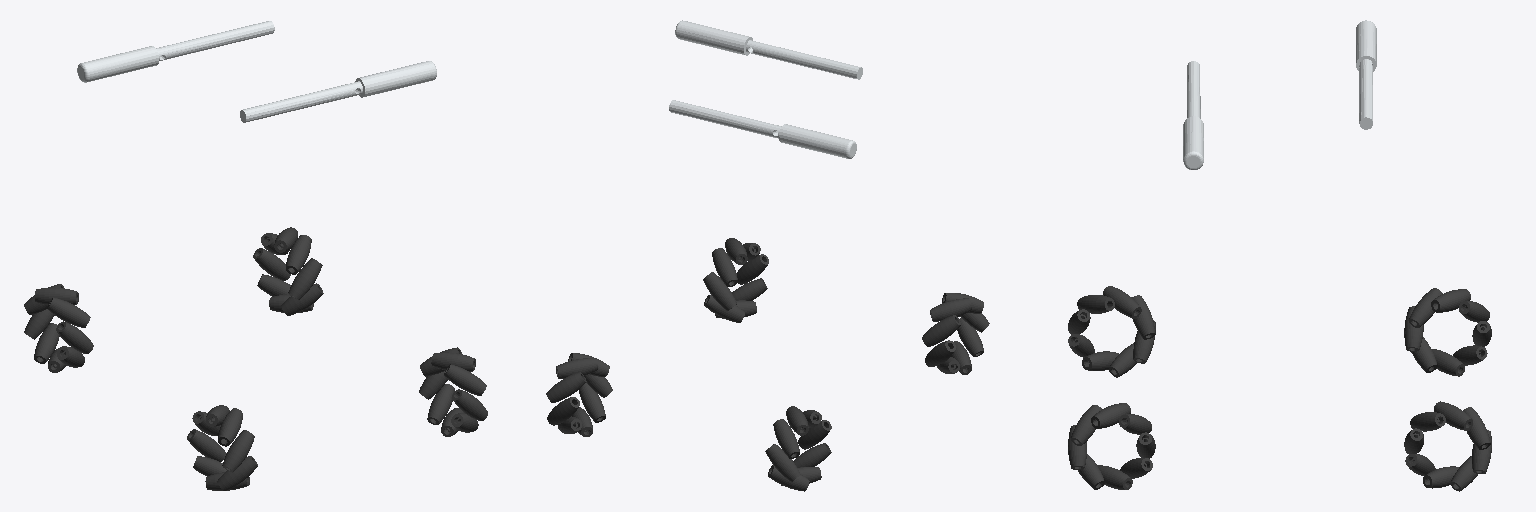
--- Facts derived from the render (not from the file) ---
Views: 3 orthographic renders of the robot side by side, from view 1: azimuth 30°, elevation 25°; view 2: azimuth 150°, elevation 25°; view 3: azimuth 270°, elevation 25°.
Model Mobile_Base_Holder_1 with 39 links and 38 joints (36 continuous, 2 prismatic), rooted at Mobile_Base, posed all joints at 0.
Links seen in each view (by area): view 1: Pin_Head_F, Pin_Head_R, Roller_LR_4, Roller_RF_6, Roller_RR_8, Roller_LF_3, Roller_LR_8, Roller_RR_4, Roller_LF_4, Roller_RF_5, Roller_RF_2, Roller_LR_5 (+6 smaller); view 2: Pin_Head_R, Pin_Head_F, Roller_LR_1, Roller_RF_3, Roller_RR_5, Roller_LF_8, Roller_LF_1, Roller_LR_2, Roller_RR_6, Roller_RF_7, Roller_RF_4, Roller_LR_5 (+3 smaller); view 3: Pin_Head_F, Pin_Head_R, Roller_LR_2, Roller_RF_4, Roller_RR_7, Roller_LF_2, Roller_LF_3, Roller_RR_8, Roller_RF_3, Roller_LR_1, Roller_LR_3, Roller_RR_3 (+4 smaller).
Link boxes in pixels (box(x1,y1,x2,y2)): Pin_Head_F: box(77, 21, 274, 82); Pin_Head_R: box(240, 61, 436, 122); Roller_LR_4: box(222, 430, 254, 472); Roller_RF_6: box(288, 258, 322, 300); Roller_RR_8: box(444, 364, 486, 395); Roller_LF_3: box(47, 297, 90, 327); Roller_LR_8: box(187, 429, 226, 461); Roller_RR_4: box(427, 384, 454, 424); Roller_LF_4: box(56, 321, 93, 353); Roller_RF_5: box(286, 235, 311, 274); Roller_RF_2: box(253, 248, 290, 280); Roller_LR_5: box(217, 456, 257, 490); Pin_Head_R: box(675, 20, 862, 79); Pin_Head_F: box(669, 100, 856, 158); Roller_LR_1: box(922, 315, 960, 346); Roller_RF_3: box(546, 372, 586, 402); Roller_RR_5: box(703, 272, 736, 310); Roller_LF_8: box(765, 444, 800, 481); Roller_LF_1: box(773, 419, 799, 458); Roller_LR_2: box(930, 298, 971, 321); Roller_RR_6: box(712, 248, 737, 286); Roller_RF_7: box(579, 383, 605, 422); Roller_RF_4: box(556, 358, 597, 378); Roller_LR_5: box(957, 318, 983, 356); Pin_Head_F: box(1356, 20, 1376, 129); Pin_Head_R: box(1183, 61, 1203, 169); Roller_LR_2: box(1103, 286, 1141, 318); Roller_RF_4: box(1434, 401, 1472, 430); Roller_RR_7: box(1091, 403, 1130, 428); Roller_LF_2: box(1431, 289, 1470, 312); Roller_LF_3: box(1409, 288, 1442, 327); Roller_RR_8: box(1071, 405, 1101, 445); Roller_RF_3: box(1463, 407, 1490, 449); Roller_LR_1: box(1132, 295, 1155, 339); Roller_LR_3: box(1077, 295, 1114, 313); Roller_RR_3: box(1097, 465, 1132, 489).
Size in the robot's own frame: 0.4573 by 0.6138 by 0.549 metres.
34 mesh visuals loaded from 39 distinct referenced files (34 binary STL); not drawn: 5 (reference not matched to a file when rendering).

robot.urdf — Mobile_Base_Holder_1:
<?xml version="1.0" encoding="utf-8"?>
<!-- This URDF was automatically created by SolidWorks to URDF Exporter! Originally created by Stephen Brawner ([email redacted]) 
     Commit Version: 1.6.0-4-g7f85cfe  Build Version: 1.6.7995.38578
     For more information, please see http://wiki.ros.org/sw_urdf_exporter -->
<robot
  name="Mobile_Base_Holder_1">
  <link
    name="Mobile_Base">
    <inertial>
      <origin
        xyz="-0.000901764538349642 0.00289486712536702 -0.140394651236372"
        rpy="0 0 0" />
      <mass
        value="12.2070426110808" />
      <inertia
        ixx="0.100263210317857"
        ixy="0.000416138117875011"
        ixz="1.90955749720013E-07"
        iyy="0.0777870248737817"
        iyz="-4.99662188803516E-08"
        izz="0.15510236958373" />
    </inertial>
    <visual>
      <origin
        xyz="0 0 0"
        rpy="0 0 0" />
      <geometry>
        <mesh
          filename="package://Mobile_Base_Holder_1/meshes/Mobile_Base.STL" />
      </geometry>
      <material
        name="">
        <color
          rgba="0.792156862745098 0.819607843137255 0.933333333333333 1" />
      </material>
    </visual>
    <collision>
      <origin
        xyz="0 0 0"
        rpy="0 0 0" />
      <geometry>
        <mesh
          filename="package://Mobile_Base_Holder_1/meshes/Mobile_Base.STL" />
      </geometry>
    </collision>
  </link>
  <link
    name="Wheel_LF">
    <inertial>
      <origin
        xyz="-3.68604325448052E-05 8.74696815861276E-06 -0.000155511793327179"
        rpy="0 0 0" />
      <mass
        value="0.774041102749819" />
      <inertia
        ixx="0.000555068815324583"
        ixy="2.15732280355057E-07"
        ixz="-1.85654347062673E-10"
        iyy="0.000555930826369468"
        iyz="2.27283260482476E-10"
        izz="0.000988906210850007" />
    </inertial>
    <visual>
      <origin
        xyz="0 0 0"
        rpy="0 0 0" />
      <geometry>
        <mesh
          filename="package://Mobile_Base_Holder_1/meshes/Wheel_LF.STL" />
      </geometry>
      <material
        name="">
        <color
          rgba="0.898039215686275 0.917647058823529 0.929411764705882 1" />
      </material>
    </visual>
    <collision>
      <origin
        xyz="0 0 0"
        rpy="0 0 0" />
      <geometry>
        <mesh
          filename="package://Mobile_Base_Holder_1/meshes/Wheel_LF.STL" />
      </geometry>
    </collision>
  </link>
  <joint
    name="J_Wheel_LF"
    type="continuous">
    <origin
      xyz="-0.196999999999994 0.243373703143014 -0.410500520826094"
      rpy="1.5707963267949 -0.698892577239709 1.57079632679526" />
    <parent
      link="Mobile_Base" />
    <child
      link="Wheel_LF" />
    <axis
      xyz="0 0 1" />
  </joint>
  <link
    name="Roller_LF_1">
    <inertial>
      <origin
        xyz="-3.83185982943957E-10 -5.66471758389753E-10 -6.83960459935129E-08"
        rpy="0 0 0" />
      <mass
        value="0.0352584429300109" />
      <inertia
        ixx="1.04260747160857E-05"
        ixy="-3.74985932672452E-16"
        ixz="3.16159847322509E-11"
        iyy="1.04260747162552E-05"
        iyz="-7.59166287983956E-12"
        izz="3.24617145964053E-06" />
    </inertial>
    <visual>
      <origin
        xyz="0 0 0"
        rpy="0 0 0" />
      <geometry>
        <mesh
          filename="package://Mobile_Base_Holder_1/meshes/Roller_LF_1.STL" />
      </geometry>
      <material
        name="">
        <color
          rgba="0.298039215686275 0.298039215686275 0.298039215686275 1" />
      </material>
    </visual>
    <collision>
      <origin
        xyz="0 0 0"
        rpy="0 0 0" />
      <geometry>
        <mesh
          filename="package://Mobile_Base_Holder_1/meshes/Roller_LF_1.STL" />
      </geometry>
    </collision>
  </link>
  <joint
    name="J_Roller_LF_1"
    type="continuous">
    <origin
      xyz="0.0495000000000021 0 0"
      rpy="0 0.785398163397682 1.57079632679483" />
    <parent
      link="Wheel_LF" />
    <child
      link="Roller_LF_1" />
    <axis
      xyz="0 0 -1" />
  </joint>
  <link
    name="Roller_LF_2">
    <inertial>
      <origin
        xyz="-3.09857084435095E-10 1.10555134491541E-09 -4.17113807937852E-08"
        rpy="0 0 0" />
      <mass
        value="0.0352584429300112" />
      <inertia
        ixx="1.04260761905347E-05"
        ixy="2.10247077096114E-16"
        ixz="-2.4788845562525E-11"
        iyy="1.04260761890094E-05"
        iyz="-2.10620761179513E-11"
        izz="3.24617146052916E-06" />
    </inertial>
    <visual>
      <origin
        xyz="0 0 0"
        rpy="0 0 0" />
      <geometry>
        <mesh
          filename="package://Mobile_Base_Holder_1/meshes/Roller_LF_2.STL" />
      </geometry>
      <material
        name="">
        <color
          rgba="0.298039215686275 0.298039215686275 0.298039215686275 1" />
      </material>
    </visual>
    <collision>
      <origin
        xyz="0 0 0"
        rpy="0 0 0" />
      <geometry>
        <mesh
          filename="package://Mobile_Base_Holder_1/meshes/Roller_LF_2.STL" />
      </geometry>
    </collision>
  </link>
  <joint
    name="J_Roller_LF_2"
    type="continuous">
    <origin
      xyz="0.0350017856687387 0.0350017856687551 0"
      rpy="0 0.785398163397817 2.35619449019253" />
    <parent
      link="Wheel_LF" />
    <child
      link="Roller_LF_2" />
    <axis
      xyz="0 0 -1" />
  </joint>
  <link
    name="Roller_LF_3">
    <inertial>
      <origin
        xyz="7.28457724696874E-09 2.76751455086099E-09 2.27604661784397E-08"
        rpy="0 0 0" />
      <mass
        value="0.0352584429300111" />
      <inertia
        ixx="1.04260768064924E-05"
        ixy="-1.98661171978739E-14"
        ixz="-3.25498755598683E-11"
        iyy="1.04260768503918E-05"
        iyz="-1.43134028288981E-12"
        izz="3.2461715182147E-06" />
    </inertial>
    <visual>
      <origin
        xyz="0 0 0"
        rpy="0 0 0" />
      <geometry>
        <mesh
          filename="package://Mobile_Base_Holder_1/meshes/Roller_LF_3.STL" />
      </geometry>
      <material
        name="">
        <color
          rgba="0.298039215686275 0.298039215686275 0.298039215686275 1" />
      </material>
    </visual>
    <collision>
      <origin
        xyz="0 0 0"
        rpy="0 0 0" />
      <geometry>
        <mesh
          filename="package://Mobile_Base_Holder_1/meshes/Roller_LF_3.STL" />
      </geometry>
    </collision>
  </link>
  <joint
    name="J_Roller_LF_3"
    type="continuous">
    <origin
      xyz="0 0.0494999999999665 0"
      rpy="0 0.785398163397733 -3.14159265358936" />
    <parent
      link="Wheel_LF" />
    <child
      link="Roller_LF_3" />
    <axis
      xyz="0 0 -1" />
  </joint>
  <link
    name="Roller_LF_4">
    <inertial>
      <origin
        xyz="-8.85009204809606E-10 8.87345419364749E-10 -1.82681258453776E-08"
        rpy="0 0 0" />
      <mass
        value="0.035258442930011" />
      <inertia
        ixx="1.04260768940346E-05"
        ixy="6.843225238284E-16"
        ixz="-1.09712169237017E-11"
        iyy="1.04260768941284E-05"
        iyz="3.06406603017413E-11"
        izz="3.24617146037589E-06" />
    </inertial>
    <visual>
      <origin
        xyz="0 0 0"
        rpy="0 0 0" />
      <geometry>
        <mesh
          filename="package://Mobile_Base_Holder_1/meshes/Roller_LF_4.STL" />
      </geometry>
      <material
        name="">
        <color
          rgba="0.298039215686275 0.298039215686275 0.298039215686275 1" />
      </material>
    </visual>
    <collision>
      <origin
        xyz="0 0 0"
        rpy="0 0 0" />
      <geometry>
        <mesh
          filename="package://Mobile_Base_Holder_1/meshes/Roller_LF_4.STL" />
      </geometry>
    </collision>
  </link>
  <joint
    name="J_Roller_LF_4"
    type="continuous">
    <origin
      xyz="-0.0350017856687272 0.0350017856687195 0"
      rpy="0 0.785398163397478 -2.35619449019179" />
    <parent
      link="Wheel_LF" />
    <child
      link="Roller_LF_4" />
    <axis
      xyz="0 0 -1" />
  </joint>
  <link
    name="Roller_LF_5">
    <inertial>
      <origin
        xyz="1.60439110885591E-08 5.69080083057116E-09 1.2380305391968E-07"
        rpy="0 0 0" />
      <mass
        value="0.035258442930011" />
      <inertia
        ixx="1.04260694141622E-05"
        ixy="-9.94372503073185E-14"
        ixz="-1.26413841544385E-11"
        iyy="1.04260696259208E-05"
        iyz="2.99325036340899E-11"
        izz="3.24617174875245E-06" />
    </inertial>
    <visual>
      <origin
        xyz="0 0 0"
        rpy="0 0 0" />
      <geometry>
        <mesh
          filename="package://Mobile_Base_Holder_1/meshes/Roller_LF_5.STL" />
      </geometry>
      <material
        name="">
        <color
          rgba="0.298039215686275 0.298039215686275 0.298039215686275 1" />
      </material>
    </visual>
    <collision>
      <origin
        xyz="0 0 0"
        rpy="0 0 0" />
      <geometry>
        <mesh
          filename="package://Mobile_Base_Holder_1/meshes/Roller_LF_5.STL" />
      </geometry>
    </collision>
  </link>
  <joint
    name="J_Roller_LF_5"
    type="continuous">
    <origin
      xyz="-0.0495000000000251 0 0"
      rpy="0 0.785398163397209 -1.57079632679442" />
    <parent
      link="Wheel_LF" />
    <child
      link="Roller_LF_5" />
    <axis
      xyz="0 0 -1" />
  </joint>
  <link
    name="Roller_LF_6">
    <inertial>
      <origin
        xyz="-3.825635364052E-10 -1.68518193843781E-09 4.39527294560094E-08"
        rpy="0 0 0" />
      <mass
        value="0.0352584429300111" />
      <inertia
        ixx="1.04260760941714E-05"
        ixy="-2.85658102752809E-16"
        ixz="2.80429237954922E-11"
        iyy="1.04260760917002E-05"
        iyz="1.65168143921329E-11"
        izz="3.24617146148317E-06" />
    </inertial>
    <visual>
      <origin
        xyz="0 0 0"
        rpy="0 0 0" />
      <geometry>
        <mesh
          filename="package://Mobile_Base_Holder_1/meshes/Roller_LF_6.STL" />
      </geometry>
      <material
        name="">
        <color
          rgba="0.298039215686275 0.298039215686275 0.298039215686275 1" />
      </material>
    </visual>
    <collision>
      <origin
        xyz="0 0 0"
        rpy="0 0 0" />
      <geometry>
        <mesh
          filename="package://Mobile_Base_Holder_1/meshes/Roller_LF_6.STL" />
      </geometry>
    </collision>
  </link>
  <joint
    name="J_Roller_LF_6"
    type="continuous">
    <origin
      xyz="-0.0350017856687449 -0.0350017856687672 0"
      rpy="0 0.785398163397077 -0.785398163397211" />
    <parent
      link="Wheel_LF" />
    <child
      link="Roller_LF_6" />
    <axis
      xyz="0 0 -1" />
  </joint>
  <link
    name="Roller_LF_7">
    <inertial>
      <origin
        xyz="4.28941293595386E-09 8.82995787598873E-10 -1.01682179981522E-07"
        rpy="0 0 0" />
      <mass
        value="0.0352584429300109" />
      <inertia
        ixx="1.04260718732603E-05"
        ixy="-4.33398087044761E-15"
        ixz="2.94154428727412E-11"
        iyy="1.04260718866193E-05"
        iyz="-1.4005428896808E-11"
        izz="3.2461714747039E-06" />
    </inertial>
    <visual>
      <origin
        xyz="0 0 0"
        rpy="0 0 0" />
      <geometry>
        <mesh
          filename="package://Mobile_Base_Holder_1/meshes/Roller_LF_7.STL" />
      </geometry>
      <material
        name="">
        <color
          rgba="0.298039215686275 0.298039215686275 0.298039215686275 1" />
      </material>
    </visual>
    <collision>
      <origin
        xyz="0 0 0"
        rpy="0 0 0" />
      <geometry>
        <mesh
          filename="package://Mobile_Base_Holder_1/meshes/Roller_LF_7.STL" />
      </geometry>
    </collision>
  </link>
  <joint
    name="J_Roller_LF_7"
    type="continuous">
    <origin
      xyz="0 -0.0494999999999995 0"
      rpy="0 0.785398163397161 0" />
    <parent
      link="Wheel_LF" />
    <child
      link="Roller_LF_7" />
    <axis
      xyz="0 0 -1" />
  </joint>
  <link
    name="Roller_LF_8">
    <inertial>
      <origin
        xyz="-4.45606107568608E-10 -1.68479385997955E-09 4.58650017132189E-08"
        rpy="0 0 0" />
      <mass
        value="0.0352584429300115" />
      <inertia
        ixx="1.04260760091362E-05"
        ixy="-3.83896454579771E-16"
        ixz="3.22721314246384E-11"
        iyy="1.04260760061884E-05"
        iyz="-4.12147536543168E-12"
        izz="3.24617146194952E-06" />
    </inertial>
    <visual>
      <origin
        xyz="0 0 0"
        rpy="0 0 0" />
      <geometry>
        <mesh
          filename="package://Mobile_Base_Holder_1/meshes/Roller_LF_8.STL" />
      </geometry>
      <material
        name="">
        <color
          rgba="0.298039215686275 0.298039215686275 0.298039215686275 1" />
      </material>
    </visual>
    <collision>
      <origin
        xyz="0 0 0"
        rpy="0 0 0" />
      <geometry>
        <mesh
          filename="package://Mobile_Base_Holder_1/meshes/Roller_LF_8.STL" />
      </geometry>
    </collision>
  </link>
  <joint
    name="J_Roller_LF_8"
    type="continuous">
    <origin
      xyz="0.0350017856687419 -0.0350017856687232 0"
      rpy="0 0.785398163397412 0.785398163397306" />
    <parent
      link="Wheel_LF" />
    <child
      link="Roller_LF_8" />
    <axis
      xyz="0 0 -1" />
  </joint>
  <link
    name="Wheel_LR">
    <inertial>
      <origin
        xyz="2.28750886412388E-05 4.38499760812283E-05 -0.000160556590807603"
        rpy="0 0 0" />
      <mass
        value="0.286935584537691" />
      <inertia
        ixx="0.000205567523367468"
        ixy="4.86825936022437E-10"
        ixz="5.22777710432475E-10"
        iyy="0.000205922237695722"
        iyz="8.40224944645304E-11"
        izz="0.000366267561115225" />
    </inertial>
    <visual>
      <origin
        xyz="0 0 0"
        rpy="0 0 0" />
      <geometry>
        <mesh
          filename="package://Mobile_Base_Holder_1/meshes/Wheel_LR.STL" />
      </geometry>
      <material
        name="">
        <color
          rgba="0.792156862745098 0.819607843137255 0.933333333333333 1" />
      </material>
    </visual>
    <collision>
      <origin
        xyz="0 0 0"
        rpy="0 0 0" />
      <geometry>
        <mesh
          filename="package://Mobile_Base_Holder_1/meshes/Wheel_LR.STL" />
      </geometry>
    </collision>
  </link>
  <joint
    name="J_Wheel_LR"
    type="continuous">
    <origin
      xyz="-0.197 -0.243373703143012 -0.410500520826101"
      rpy="1.5707963267949 -0.479686767241463 1.57079632679489" />
    <parent
      link="Mobile_Base" />
    <child
      link="Wheel_LR" />
    <axis
      xyz="0 0 1" />
  </joint>
  <link
    name="Roller_LR_1">
    <inertial>
      <origin
        xyz="1.67015073992971E-08 1.25504300840795E-08 1.06866803406547E-07"
        rpy="0 0 0" />
      <mass
        value="0.0352584429300112" />
      <inertia
        ixx="1.04260715177521E-05"
        ixy="-2.16967544708089E-13"
        ixz="-9.22230104291594E-12"
        iyy="1.04260716218938E-05"
        iyz="3.09410049840542E-11"
        izz="3.24617190478417E-06" />
    </inertial>
    <visual>
      <origin
        xyz="0 0 0"
        rpy="0 0 0" />
      <geometry>
        <mesh
          filename="package://Mobile_Base_Holder_1/meshes/Roller_LR_1.STL" />
      </geometry>
      <material
        name="">
        <color
          rgba="0.298039215686275 0.298039215686275 0.298039215686275 1" />
      </material>
    </visual>
    <collision>
      <origin
        xyz="0 0 0"
        rpy="0 0 0" />
      <geometry>
        <mesh
          filename="package://Mobile_Base_Holder_1/meshes/Roller_LR_1.STL" />
      </geometry>
    </collision>
  </link>
  <joint
    name="J_Roller_LR_1"
    type="continuous">
    <origin
      xyz="0.0494999999999991 0 0"
      rpy="0 0.785398163397451 -1.57079632679496" />
    <parent
      link="Wheel_LR" />
    <child
      link="Roller_LR_1" />
    <axis
      xyz="0 0 -1" />
  </joint>
  <link
    name="Roller_LR_2">
    <inertial>
      <origin
        xyz="7.42938899289669E-09 -8.73704070203374E-09 8.61521962658429E-08"
        rpy="0 0 0" />
      <mass
        value="0.0352584429300108" />
      <inertia
        ixx="1.04260734013828E-05"
        ixy="6.31409768982622E-14"
        ixz="9.33284556977417E-12"
        iyy="1.04260733892382E-05"
        iyz="3.12763115710681E-11"
        izz="3.2461715855996E-06" />
    </inertial>
    <visual>
      <origin
        xyz="0 0 0"
        rpy="0 0 0" />
      <geometry>
        <mesh
          filename="package://Mobile_Base_Holder_1/meshes/Roller_LR_2.STL" />
      </geometry>
      <material
        name="">
        <color
          rgba="0.298039215686275 0.298039215686275 0.298039215686275 1" />
      </material>
    </visual>
    <collision>
      <origin
        xyz="0 0 0"
        rpy="0 0 0" />
      <geometry>
        <mesh
          filename="package://Mobile_Base_Holder_1/meshes/Roller_LR_2.STL" />
      </geometry>
    </collision>
  </link>
  <joint
    name="J_Roller_LR_2"
    type="continuous">
    <origin
      xyz="0.0350017856687349 0.0350017856687338 0"
      rpy="0 0.785398163397457 -0.785398163397507" />
    <parent
      link="Wheel_LR" />
    <child
      link="Roller_LR_2" />
    <axis
      xyz="0 0 -1" />
  </joint>
  <link
    name="Roller_LR_3">
    <inertial>
      <origin
        xyz="-2.48421372361918E-09 -3.8649139000313E-08 3.87014362224214E-09"
        rpy="0 0 0" />
      <mass
        value="0.0352584429300109" />
      <inertia
        ixx="1.02720896688601E-05"
        ixy="5.25739053234605E-07"
        ixz="8.97501577058071E-07"
        iyy="8.63112731680581E-06"
        iyz="-3.06419984523447E-06"
        izz="5.19511092199813E-06" />
    </inertial>
    <visual>
      <origin
        xyz="0 0 0"
        rpy="0 0 0" />
      <geometry>
        <mesh
          filename="package://Mobile_Base_Holder_1/meshes/Roller_LR_3.STL" />
      </geometry>
      <material
        name="">
        <color
          rgba="0.298039215686275 0.298039215686275 0.298039215686275 1" />
      </material>
    </visual>
    <collision>
      <origin
        xyz="0 0 0"
        rpy="0 0 0" />
      <geometry>
        <mesh
          filename="package://Mobile_Base_Holder_1/meshes/Roller_LR_3.STL" />
      </geometry>
    </collision>
  </link>
  <joint
    name="J_Roller_LR_3"
    type="continuous">
    <origin
      xyz="0 0.0494999999999999 0"
      rpy="0 0.785398163397457 -0.785398163397507" />
    <parent
      link="Wheel_LR" />
    <child
      link="Roller_LR_3" />
    <axis
      xyz="0.146446609406722 -0.499999999999993 -0.853553390593279" />
  </joint>
  <link
    name="Roller_LR_4">
    <inertial>
      <origin
        xyz="7.63942531456507E-09 -1.99390438604397E-08 1.1846500916346E-07"
        rpy="0 0 0" />
      <mass
        value="0.0352584429300108" />
      <inertia
        ixx="1.0426070450002E-05"
        ixy="1.65232144271412E-13"
        ixz="3.13331495062905E-11"
        iyy="1.04260701130261E-05"
        iyz="-7.04608640492049E-12"
        izz="3.24617193052735E-06" />
    </inertial>
    <visual>
      <origin
        xyz="0 0 0"
        rpy="0 0 0" />
      <geometry>
        <mesh
          filename="package://Mobile_Base_Holder_1/meshes/Roller_LR_4.STL" />
      </geometry>
      <material
        name="">
        <color
          rgba="0.298039215686275 0.298039215686275 0.298039215686275 1" />
      </material>
    </visual>
    <collision>
      <origin
        xyz="0 0 0"
        rpy="0 0 0" />
      <geometry>
        <mesh
          filename="package://Mobile_Base_Holder_1/meshes/Roller_LR_4.STL" />
      </geometry>
    </collision>
  </link>
  <joint
    name="J_Roller_LR_4"
    type="continuous">
    <origin
      xyz="-0.0350017856687312 0.035001785668738 0"
      rpy="0 0.78539816339745 0.785398163397392" />
    <parent
      link="Wheel_LR" />
    <child
      link="Roller_LR_4" />
    <axis
      xyz="0 0 -1" />
  </joint>
  <link
    name="Roller_LR_5">
    <inertial>
      <origin
        xyz="-1.13800639467421E-08 -2.23572448332376E-08 -1.39705523066747E-07"
        rpy="0 0 0" />
      <mass
        value="0.035258442930011" />
      <inertia
        ixx="1.04260677298263E-05"
        ixy="-2.58295319819987E-13"
        ixz="1.92470991858287E-11"
        iyy="1.0426067392854E-05"
        iyz="-2.66026490431678E-11"
        izz="3.24617207497984E-06" />
    </inertial>
    <visual>
      <origin
        xyz="0 0 0"
        rpy="0 0 0" />
      <geometry>
        <mesh
          filename="package://Mobile_Base_Holder_1/meshes/Roller_LR_5.STL" />
      </geometry>
      <material
        name="">
        <color
          rgba="0.298039215686275 0.298039215686275 0.298039215686275 1" />
      </material>
    </visual>
    <collision>
      <origin
        xyz="0 0 0"
        rpy="0 0 0" />
      <geometry>
        <mesh
          filename="package://Mobile_Base_Holder_1/meshes/Roller_LR_5.STL" />
      </geometry>
    </collision>
  </link>
  <joint
    name="J_Roller_LR_5"
    type="continuous">
    <origin
      xyz="-0.0494999999999998 0 0"
      rpy="0 0.785398163397442 1.57079632679484" />
    <parent
      link="Wheel_LR" />
    <child
      link="Roller_LR_5" />
    <axis
      xyz="0 0 -1" />
  </joint>
  <link
    name="Roller_LR_6">
    <inertial>
      <origin
        xyz="2.33893460155343E-10 1.54178639300007E-09 -2.60845123278841E-08"
        rpy="0 0 0" />
      <mass
        value="0.035258442930011" />
      <inertia
        ixx="1.04260767232418E-05"
        ixy="-3.71422041546879E-16"
        ixz="3.32532285718695E-12"
        iyy="1.04260767205083E-05"
        iyz="-3.23584129250263E-11"
        izz="3.24617146183828E-06" />
    </inertial>
    <visual>
      <origin
        xyz="0 0 0"
        rpy="0 0 0" />
      <geometry>
        <mesh
          filename="package://Mobile_Base_Holder_1/meshes/Roller_LR_6.STL" />
      </geometry>
      <material
        name="">
        <color
          rgba="0.298039215686275 0.298039215686275 0.298039215686275 1" />
      </material>
    </visual>
    <collision>
      <origin
        xyz="0 0 0"
        rpy="0 0 0" />
      <geometry>
        <mesh
          filename="package://Mobile_Base_Holder_1/meshes/Roller_LR_6.STL" />
      </geometry>
    </collision>
  </link>
  <joint
    name="J_Roller_LR_6"
    type="continuous">
    <origin
      xyz="-0.0350017856687373 -0.035001785668729 0"
      rpy="0 0.785398163397437 2.35619449019228" />
    <parent
      link="Wheel_LR" />
    <child
      link="Roller_LR_6" />
    <axis
      xyz="0 0 -1" />
  </joint>
  <link
    name="Roller_LR_7">
    <inertial>
      <origin
        xyz="1.99958341828843E-08 1.8472178411888E-08 -5.58086615809472E-09"
        rpy="0 0 0" />
      <mass
        value="0.0352584429300108" />
      <inertia
        ixx="1.04260773904698E-05"
        ixy="-3.71094202950359E-13"
        ixz="-2.21142032202126E-11"
        iyy="1.04260774492563E-05"
        iyz="-2.38143341729084E-11"
        izz="3.24617220352037E-06" />
    </inertial>
    <visual>
      <origin
        xyz="0 0 0"
        rpy="0 0 0" />
      <geometry>
        <mesh
          filename="package://Mobile_Base_Holder_1/meshes/Roller_LR_7.STL" />
      </geometry>
      <material
        name="">
        <color
          rgba="0.298039215686275 0.298039215686275 0.298039215686275 1" />
      </material>
    </visual>
    <collision>
      <origin
        xyz="0 0 0"
        rpy="0 0 0" />
      <geometry>
        <mesh
          filename="package://Mobile_Base_Holder_1/meshes/Roller_LR_7.STL" />
      </geometry>
    </collision>
  </link>
  <joint
    name="J_Roller_LR_7"
    type="continuous">
    <origin
      xyz="0 -0.0494999999999981 0"
      rpy="0 0.785398163397437 3.14159265358973" />
    <parent
      link="Wheel_LR" />
    <child
      link="Roller_LR_7" />
    <axis
      xyz="0 0 -1" />
  </joint>
  <link
    name="Roller_LR_8">
    <inertial>
      <origin
        xyz="-4.27786778223194E-10 1.50381363750451E-08 -1.39886802030809E-07"
        rpy="0 0 0" />
      <mass
        value="0.0352584429300108" />
      <inertia
        ixx="1.04260675049186E-05"
        ixy="-2.07385810388201E-15"
        ixz="-2.69590085768581E-11"
        iyy="1.04260672661416E-05"
        iyz="-1.75459807670728E-11"
        izz="3.24617169716258E-06" />
    </inertial>
    <visual>
      <origin
        xyz="0 0 0"
        rpy="0 0 0" />
      <geometry>
        <mesh
          filename="package://Mobile_Base_Holder_1/meshes/Roller_LR_8.STL" />
      </geometry>
      <material
        name="">
        <color
          rgba="0.298039215686275 0.298039215686275 0.298039215686275 1" />
      </material>
    </visual>
    <collision>
      <origin
        xyz="0 0 0"
        rpy="0 0 0" />
      <geometry>
        <mesh
          filename="package://Mobile_Base_Holder_1/meshes/Roller_LR_8.STL" />
      </geometry>
    </collision>
  </link>
  <joint
    name="J_Roller_LR_8"
    type="continuous">
    <origin
      xyz="0.0350017856687324 -0.035001785668733 0"
      rpy="0 0.785398163397443 -2.35619449019241" />
    <parent
      link="Wheel_LR" />
    <child
      link="Roller_LR_8" />
    <axis
      xyz="0 0 -1" />
  </joint>
  <link
    name="Wheel_RF">
    <inertial>
      <origin
        xyz="2.28374030626366E-05 4.3913212168234E-05 -0.000160482316143525"
        rpy="0 0 0" />
      <mass
        value="0.286934748749192" />
      <inertia
        ixx="0.00020556617413596"
        ixy="1.10285044985226E-14"
        ixz="5.73034041739302E-10"
        iyy="0.000205921402223248"
        iyz="1.10288594143402E-14"
        izz="0.000366265336032199" />
    </inertial>
    <visual>
      <origin
        xyz="0 0 0"
        rpy="0 0 0" />
      <geometry>
        <mesh
          filename="package://Mobile_Base_Holder_1/meshes/Wheel_RF.STL" />
      </geometry>
      <material
        name="">
        <color
          rgba="0.792156862745098 0.819607843137255 0.933333333333333 1" />
      </material>
    </visual>
    <collision>
      <origin
        xyz="0 0 0"
        rpy="0 0 0" />
      <geometry>
        <mesh
          filename="package://Mobile_Base_Holder_1/meshes/Wheel_RF.STL" />
      </geometry>
    </collision>
  </link>
  <joint
    name="J_Wheel_RF"
    type="continuous">
    <origin
      xyz="0.197 0.243373703143008 -0.410500520826103"
      rpy="-1.57079632679488 0.943014448657122 1.57079632679492" />
    <parent
      link="Mobile_Base" />
    <child
      link="Wheel_RF" />
    <axis
      xyz="0 0 1" />
  </joint>
  <link
    name="Roller_RF_1">
    <inertial>
      <origin
        xyz="-2.28876292918123E-08 1.67575591736302E-08 -3.70525532478183E-08"
        rpy="0 0 0" />
      <mass
        value="0.0352584429300108" />
      <inertia
        ixx="1.04260766356289E-05"
        ixy="3.79660531325495E-13"
        ixz="-2.75547408292055E-11"
        iyy="1.04260768755305E-05"
        iyz="1.77785602475058E-11"
        izz="3.24617225532452E-06" />
    </inertial>
    <visual>
      <origin
        xyz="0 0 0"
        rpy="0 0 0" />
      <geometry>
        <mesh
          filename="package://Mobile_Base_Holder_1/meshes/Roller_RF_1.STL" />
      </geometry>
      <material
        name="">
        <color
          rgba="0.298039215686275 0.298039215686275 0.298039215686275 1" />
      </material>
    </visual>
    <collision>
      <origin
        xyz="0 0 0"
        rpy="0 0 0" />
      <geometry>
        <mesh
          filename="package://Mobile_Base_Holder_1/meshes/Roller_RF_1.STL" />
      </geometry>
    </collision>
  </link>
  <joint
    name="J_Roller_RF_1"
    type="continuous">
    <origin
      xyz="0.0494999999999999 0 0"
      rpy="0 -0.785398163397448 1.57079632679489" />
    <parent
      link="Wheel_RF" />
    <child
      link="Roller_RF_1" />
    <axis
      xyz="0 0 -1" />
  </joint>
  <link
    name="Roller_RF_2">
    <inertial>
      <origin
        xyz="-7.58374141263118E-10 -2.51046117227816E-09 5.45374427840528E-08"
        rpy="0 0 0" />
      <mass
        value="0.0352584429300108" />
      <inertia
        ixx="1.04260755789725E-05"
        ixy="-1.83702642128029E-15"
        ixz="1.25338284150256E-11"
        iyy="1.04260755718119E-05"
        iyz="-2.9985430552703E-11"
        izz="3.24617146700459E-06" />
    </inertial>
    <visual>
      <origin
        xyz="0 0 0"
        rpy="0 0 0" />
      <geometry>
        <mesh
          filename="package://Mobile_Base_Holder_1/meshes/Roller_RF_2.STL" />
      </geometry>
      <material
        name="">
        <color
          rgba="0.298039215686275 0.298039215686275 0.298039215686275 1" />
      </material>
    </visual>
    <collision>
      <origin
        xyz="0 0 0"
        rpy="0 0 0" />
      <geometry>
        <mesh
          filename="package://Mobile_Base_Holder_1/meshes/Roller_RF_2.STL" />
      </geometry>
    </collision>
  </link>
  <joint
    name="J_Roller_RF_2"
    type="continuous">
    <origin
      xyz="0.0350017856687338 -0.0350017856687341 0"
      rpy="0 -0.785398163397438 0.785398163397447" />
    <parent
      link="Wheel_RF" />
    <child
      link="Roller_RF_2" />
    <axis
      xyz="0 0 -1" />
  </joint>
  <link
    name="Roller_RF_3">
    <inertial>
      <origin
        xyz="1.62190583186117E-08 -2.63133487221623E-09 1.51501947903698E-07"
        rpy="0 0 0" />
      <mass
        value="0.0352584429300107" />
      <inertia
        ixx="1.04260655466723E-05"
        ixy="3.0405123897277E-14"
        ixz="-4.03828219583914E-12"
        iyy="1.04260658049207E-05"
        iyz="3.23463899735662E-11"
        izz="3.24617172323519E-06" />
    </inertial>
    <visual>
      <origin
        xyz="0 0 0"
        rpy="0 0 0" />
      <geometry>
        <mesh
          filename="package://Mobile_Base_Holder_1/meshes/Roller_RF_3.STL" />
      </geometry>
      <material
        name="">
        <color
          rgba="0.298039215686275 0.298039215686275 0.298039215686275 1" />
      </material>
    </visual>
    <collision>
      <origin
        xyz="0 0 0"
        rpy="0 0 0" />
      <geometry>
        <mesh
          filename="package://Mobile_Base_Holder_1/meshes/Roller_RF_3.STL" />
      </geometry>
    </collision>
  </link>
  <joint
    name="J_Roller_RF_3"
    type="continuous">
    <origin
      xyz="0 -0.0495 0"
      rpy="-0.609288783050202 0.53106684913527 2.19857820493268" />
    <parent
      link="Wheel_RF" />
    <child
      link="Roller_RF_3" />
    <axis
      xyz="0 0 -1" />
  </joint>
  <link
    name="Roller_RF_4">
    <inertial>
      <origin
        xyz="-1.10020631494123E-09 -2.32654606691085E-09 5.17692528845259E-08"
        rpy="0 0 0" />
      <mass
        value="0.0352584429300106" />
      <inertia
        ixx="1.04260757252243E-05"
        ixy="-2.62052734468842E-15"
        ixz="1.15087387759186E-11"
        iyy="1.04260757196874E-05"
        iyz="-3.03999851193014E-11"
        izz="3.2461714665715E-06" />
    </inertial>
    <visual>
      <origin
        xyz="0 0 0"
        rpy="0 0 0" />
      <geometry>
        <mesh
          filename="package://Mobile_Base_Holder_1/meshes/Roller_RF_4.STL" />
      </geometry>
      <material
        name="">
        <color
          rgba="0.298039215686275 0.298039215686275 0.298039215686275 1" />
      </material>
    </visual>
    <collision>
      <origin
        xyz="0 0 0"
        rpy="0 0 0" />
      <geometry>
        <mesh
          filename="package://Mobile_Base_Holder_1/meshes/Roller_RF_4.STL" />
      </geometry>
    </collision>
  </link>
  <joint
    name="J_Roller_RF_4"
    type="continuous">
    <origin
      xyz="-0.0350017856687344 -0.0350017856687337 0"
      rpy="0 -0.785398163397439 -0.785398163397433" />
    <parent
      link="Wheel_RF" />
    <child
      link="Roller_RF_4" />
    <axis
      xyz="0 0 -1" />
  </joint>
  <link
    name="Roller_RF_5">
    <inertial>
      <origin
        xyz="2.43778411346263E-08 -1.78419561625009E-08 5.60706398533561E-08"
        rpy="0 0 0" />
      <mass
        value="0.0352584429300109" />
      <inertia
        ixx="1.04260758348702E-05"
        ixy="4.44263469303027E-13"
        ixz="2.48069949750729E-11"
        iyy="1.04260761157679E-05"
        iyz="-2.0365696684887E-11"
        izz="3.24617239087806E-06" />
    </inertial>
    <visual>
      <origin
        xyz="0 0 0"
        rpy="0 0 0" />
      <geometry>
        <mesh
          filename="package://Mobile_Base_Holder_1/meshes/Roller_RF_5.STL" />
      </geometry>
      <material
        name="">
        <color
          rgba="0.298039215686275 0.298039215686275 0.298039215686275 1" />
      </material>
    </visual>
    <collision>
      <origin
        xyz="0 0 0"
        rpy="0 0 0" />
      <geometry>
        <mesh
          filename="package://Mobile_Base_Holder_1/meshes/Roller_RF_5.STL" />
      </geometry>
    </collision>
  </link>
  <joint
    name="J_Roller_RF_5"
    type="continuous">
    <origin
      xyz="-0.0495 0 0"
      rpy="0 -0.785398163397448 -1.57079632679488" />
    <parent
      link="Wheel_RF" />
    <child
      link="Roller_RF_5" />
    <axis
      xyz="0 0 -1" />
  </joint>
  <link
    name="Roller_RF_6">
    <inertial>
      <origin
        xyz="-6.38928882024103E-10 -4.33517610698431E-09 7.96774445033233E-08"
        rpy="0 0 0" />
      <mass
        value="0.035258442930011" />
      <inertia
        ixx="1.0426073900259E-05"
        ixy="-1.37727112531252E-15"
        ixz="2.87273301374692E-11"
        iyy="1.04260738797584E-05"
        iyz="-1.51581958389486E-11"
        izz="3.24617147943109E-06" />
    </inertial>
    <visual>
      <origin
        xyz="0 0 0"
        rpy="0 0 0" />
      <geometry>
        <mesh
          filename="package://Mobile_Base_Holder_1/meshes/Roller_RF_6.STL" />
      </geometry>
      <material
        name="">
        <color
          rgba="0.298039215686275 0.298039215686275 0.298039215686275 1" />
      </material>
    </visual>
    <collision>
      <origin
        xyz="0 0 0"
        rpy="0 0 0" />
      <geometry>
        <mesh
          filename="package://Mobile_Base_Holder_1/meshes/Roller_RF_6.STL" />
      </geometry>
    </collision>
  </link>
  <joint
    name="J_Roller_RF_6"
    type="continuous">
    <origin
      xyz="-0.0350017856687347 0.035001785668734 0"
      rpy="0 -0.785398163397459 -2.35619449019234" />
    <parent
      link="Wheel_RF" />
    <child
      link="Roller_RF_6" />
    <axis
      xyz="0 0 -1" />
  </joint>
  <link
    name="Roller_RF_7">
    <inertial>
      <origin
        xyz="2.03665445341894E-08 -7.13063064150532E-09 -8.72457231460011E-08"
        rpy="0 0 0" />
      <mass
        value="0.035258442930011" />
      <inertia
        ixx="1.04260733096708E-05"
        ixy="1.54326280402773E-13"
        ixz="2.0254296471793E-12"
        iyy="1.04260736676434E-05"
        iyz="3.23095488290615E-11"
        izz="3.24617193132991E-06" />
    </inertial>
    <visual>
      <origin
        xyz="0 0 0"
        rpy="0 0 0" />
      <geometry>
        <mesh
          filename="package://Mobile_Base_Holder_1/meshes/Roller_RF_7.STL" />
      </geometry>
      <material
        name="">
        <color
          rgba="0.298039215686275 0.298039215686275 0.298039215686275 1" />
      </material>
    </visual>
    <collision>
      <origin
        xyz="0 0 0"
        rpy="0 0 0" />
      <geometry>
        <mesh
          filename="package://Mobile_Base_Holder_1/meshes/Roller_RF_7.STL" />
      </geometry>
    </collision>
  </link>
  <joint
    name="J_Roller_RF_7"
    type="continuous">
    <origin
      xyz="0 0.0495 0"
      rpy="0 -0.785398163397463 3.14159265358979" />
    <parent
      link="Wheel_RF" />
    <child
      link="Roller_RF_7" />
    <axis
      xyz="0 0 -1" />
  </joint>
  <link
    name="Roller_RF_8">
    <inertial>
      <origin
        xyz="2.86524748371875E-10 3.53920168172372E-09 -5.47491038616066E-08"
        rpy="0 0 0" />
      <mass
        value="0.0352584429300109" />
      <inertia
        ixx="1.04260755664592E-05"
        ixy="-1.32125493068646E-15"
        ixz="-1.2652516240161E-11"
        iyy="1.04260755558221E-05"
        iyz="3.00123139469367E-11"
        izz="3.24617146993115E-06" />
    </inertial>
    <visual>
      <origin
        xyz="0 0 0"
        rpy="0 0 0" />
      <geometry>
        <mesh
          filename="package://Mobile_Base_Holder_1/meshes/Roller_RF_8.STL" />
      </geometry>
      <material
        name="">
        <color
          rgba="0.298039215686275 0.298039215686275 0.298039215686275 1" />
      </material>
    </visual>
    <collision>
      <origin
        xyz="0 0 0"
        rpy="0 0 0" />
      <geometry>
        <mesh
          filename="package://Mobile_Base_Holder_1/meshes/Roller_RF_8.STL" />
      </geometry>
    </collision>
  </link>
  <joint
    name="J_Roller_RF_8"
    type="continuous">
    <origin
      xyz="0.0350017856687329 0.0350017856687334 0"
      rpy="0 -0.785398163397459 2.35619449019235" />
    <parent
      link="Wheel_RF" />
    <child
      link="Roller_RF_8" />
    <axis
      xyz="0 0 -1" />
  </joint>
  <link
    name="Wheel_RR">
    <inertial>
      <origin
        xyz="-3.68971720447753E-05 8.73176160257061E-06 -0.000155533212772396"
        rpy="0 0 0" />
      <mass
        value="0.774041107399352" />
      <inertia
        ixx="0.000555071231306981"
        ixy="2.13316469015245E-07"
        ixz="2.7956366730985E-11"
        iyy="0.000555928410599816"
        iyz="-2.88355488444608E-10"
        izz="0.000988906210952547" />
    </inertial>
    <visual>
      <origin
        xyz="0 0 0"
        rpy="0 0 0" />
      <geometry>
        <mesh
          filename="package://Mobile_Base_Holder_1/meshes/Wheel_RR.STL" />
      </geometry>
      <material
        name="">
        <color
          rgba="0.898039215686275 0.917647058823529 0.929411764705882 1" />
      </material>
    </visual>
    <collision>
      <origin
        xyz="0 0 0"
        rpy="0 0 0" />
      <geometry>
        <mesh
          filename="package://Mobile_Base_Holder_1/meshes/Wheel_RR.STL" />
      </geometry>
    </collision>
  </link>
  <joint
    name="J_Wheel_RR"
    type="continuous">
    <origin
      xyz="0.197 -0.243373703143013 -0.410500520826098"
      rpy="1.5707963267949 0.0225283753887193 -1.57079632679472" />
    <parent
      link="Mobile_Base" />
    <child
      link="Wheel_RR" />
    <axis
      xyz="0 0 1" />
  </joint>
  <link
    name="Roller_RR_1">
    <inertial>
      <origin
        xyz="1.12114789674322E-10 -6.97872593047322E-11 -1.19170277257385E-08"
        rpy="0 0 0" />
      <mass
        value="0.035258442930011" />
      <inertia
        ixx="1.04260769898083E-05"
        ixy="6.06656908224351E-18"
        ixz="3.08085320277639E-11"
        iyy="1.04260769898007E-05"
        iyz="1.0478225912599E-11"
        izz="3.24617145901505E-06" />
    </inertial>
    <visual>
      <origin
        xyz="0 0 0"
        rpy="0 0 0" />
      <geometry>
        <mesh
          filename="package://Mobile_Base_Holder_1/meshes/Roller_RR_1.STL" />
      </geometry>
      <material
        name="">
        <color
          rgba="0.298039215686275 0.298039215686275 0.298039215686275 1" />
      </material>
    </visual>
    <collision>
      <origin
        xyz="0 0 0"
        rpy="0 0 0" />
      <geometry>
        <mesh
          filename="package://Mobile_Base_Holder_1/meshes/Roller_RR_1.STL" />
      </geometry>
    </collision>
  </link>
  <joint
    name="J_Roller_RR_1"
    type="continuous">
    <origin
      xyz="0.049500000000006 0 0"
      rpy="0 -0.785398163397444 -1.57079632679489" />
    <parent
      link="Wheel_RR" />
    <child
      link="Roller_RR_1" />
    <axis
      xyz="0 0 -1" />
  </joint>
  <link
    name="Roller_RR_2">
    <inertial>
      <origin
        xyz="0.0247500321227677 -0.0144981536896033 -0.0247498858505418"
        rpy="0 0 0" />
      <mass
        value="0.0352584429300109" />
      <inertia
        ixx="1.02720859629879E-05"
        ixy="-5.25736174296122E-07"
        ixz="-8.97478853468163E-07"
        iyy="8.63106664499607E-06"
        iyz="-3.06422871372737E-06"
        izz="5.19515582335274E-06" />
    </inertial>
    <visual>
      <origin
        xyz="0 0 0"
        rpy="0 0 0" />
      <geometry>
        <mesh
          filename="package://Mobile_Base_Holder_1/meshes/Roller_RR_2.STL" />
      </geometry>
      <material
        name="">
        <color
          rgba="0.298039215686275 0.298039215686275 0.298039215686275 1" />
      </material>
    </visual>
    <collision>
      <origin
        xyz="0 0 0"
        rpy="0 0 0" />
      <geometry>
        <mesh
          filename="package://Mobile_Base_Holder_1/meshes/Roller_RR_2.STL" />
      </geometry>
    </collision>
  </link>
  <joint
    name="J_Roller_RR_2"
    type="continuous">
    <origin
      xyz="0.049500000000006 0 0"
      rpy="0 -0.785398163397444 -1.57079632679489" />
    <parent
      link="Wheel_RR" />
    <child
      link="Roller_RR_2" />
    <axis
      xyz="-0.146446609406728 -0.5 -0.853553390593274" />
  </joint>
  <link
    name="Roller_RR_3">
    <inertial>
      <origin
        xyz="1.14529011274733E-10 -1.43740908065126E-10 -1.19538481335724E-08"
        rpy="0 0 0" />
      <mass
        value="0.035258442930011" />
      <inertia
        ixx="1.04260769893648E-05"
        ixy="6.43047561220764E-18"
        ixz="3.135428663036E-11"
        iyy="1.04260769893486E-05"
        iyz="-8.71091477927151E-12"
        izz="3.24617145902362E-06" />
    </inertial>
    <visual>
      <origin
        xyz="0 0 0"
        rpy="0 0 0" />
      <geometry>
        <mesh
          filename="package://Mobile_Base_Holder_1/meshes/Roller_RR_3.STL" />
      </geometry>
      <material
        name="">
        <color
          rgba="0.298039215686275 0.298039215686275 0.298039215686275 1" />
      </material>
    </visual>
    <collision>
      <origin
        xyz="0 0 0"
        rpy="0 0 0" />
      <geometry>
        <mesh
          filename="package://Mobile_Base_Holder_1/meshes/Roller_RR_3.STL" />
      </geometry>
    </collision>
  </link>
  <joint
    name="J_Roller_RR_3"
    type="continuous">
    <origin
      xyz="0 -0.0495000000000001 0"
      rpy="0 -0.785398163397275 -3.14159265358962" />
    <parent
      link="Wheel_RR" />
    <child
      link="Roller_RR_3" />
    <axis
      xyz="0 0 -1" />
  </joint>
  <link
    name="Roller_RR_4">
    <inertial>
      <origin
        xyz="2.76238532048723E-09 2.13770798285218E-09 -1.11114659334666E-07"
        rpy="0 0 0" />
      <mass
        value="0.0352584429300108" />
      <inertia
        ixx="1.04260708684055E-05"
        ixy="-4.05622394396635E-15"
        ixz="1.24181842518424E-11"
        iyy="1.04260708725038E-05"
        iyz="3.01041157011414E-11"
        izz="3.24617146788864E-06" />
    </inertial>
    <visual>
      <origin
        xyz="0 0 0"
        rpy="0 0 0" />
      <geometry>
        <mesh
          filename="package://Mobile_Base_Holder_1/meshes/Roller_RR_4.STL" />
      </geometry>
      <material
        name="">
        <color
          rgba="0.298039215686275 0.298039215686275 0.298039215686275 1" />
      </material>
    </visual>
    <collision>
      <origin
        xyz="0 0 0"
        rpy="0 0 0" />
      <geometry>
        <mesh
          filename="package://Mobile_Base_Holder_1/meshes/Roller_RR_4.STL" />
      </geometry>
    </collision>
  </link>
  <joint
    name="J_Roller_RR_4"
    type="continuous">
    <origin
      xyz="-0.0350017856687443 -0.0350017856687639 0"
      rpy="0 -0.785398163397327 2.35619449019265" />
    <parent
      link="Wheel_RR" />
    <child
      link="Roller_RR_4" />
    <axis
      xyz="0 0 -1" />
  </joint>
  <link
    name="Roller_RR_5">
    <inertial>
      <origin
        xyz="4.96390428761373E-11 8.79210593218716E-12 8.75807198985612E-09"
        rpy="0 0 0" />
      <mass
        value="0.0352584429300111" />
      <inertia
        ixx="1.04260770225584E-05"
        ixy="-1.99762132698086E-18"
        ixz="-1.85692606996194E-11"
        iyy="1.04260770225577E-05"
        iyz="2.6723573066859E-11"
        izz="3.24617145900821E-06" />
    </inertial>
    <visual>
      <origin
        xyz="0 0 0"
        rpy="0 0 0" />
      <geometry>
        <mesh
          filename="package://Mobile_Base_Holder_1/meshes/Roller_RR_5.STL" />
      </geometry>
      <material
        name="">
        <color
          rgba="0.298039215686275 0.298039215686275 0.298039215686275 1" />
      </material>
    </visual>
    <collision>
      <origin
        xyz="0 0 0"
        rpy="0 0 0" />
      <geometry>
        <mesh
          filename="package://Mobile_Base_Holder_1/meshes/Roller_RR_5.STL" />
      </geometry>
    </collision>
  </link>
  <joint
    name="J_Roller_RR_5"
    type="continuous">
    <origin
      xyz="-0.0495000000000206 0 0"
      rpy="0 -0.78539816339745 1.57079632679524" />
    <parent
      link="Wheel_RR" />
    <child
      link="Roller_RR_5" />
    <axis
      xyz="0 0 -1" />
  </joint>
  <link
    name="Roller_RR_6">
    <inertial>
      <origin
        xyz="-5.57324551786476E-09 2.04404754233778E-09 -1.28496821960589E-07"
        rpy="0 0 0" />
      <mass
        value="0.0352584429300109" />
      <inertia
        ixx="1.04260687757173E-05"
        ixy="7.73717502284936E-15"
        ixz="-1.85253924061901E-11"
        iyy="1.0426068800802E-05"
        iyz="2.68437436203528E-11"
        izz="3.24617148814881E-06" />
    </inertial>
    <visual>
      <origin
        xyz="0 0 0"
        rpy="0 0 0" />
      <geometry>
        <mesh
          filename="package://Mobile_Base_Holder_1/meshes/Roller_RR_6.STL" />
      </geometry>
      <material
        name="">
        <color
          rgba="0.298039215686275 0.298039215686275 0.298039215686275 1" />
      </material>
    </visual>
    <collision>
      <origin
        xyz="0 0 0"
        rpy="0 0 0" />
      <geometry>
        <mesh
          filename="package://Mobile_Base_Holder_1/meshes/Roller_RR_6.STL" />
      </geometry>
    </collision>
  </link>
  <joint
    name="J_Roller_RR_6"
    type="continuous">
    <origin
      xyz="-0.0350017856687212 0.0350017856687237 0"
      rpy="0 -0.785398163397572 0.78539816339774" />
    <parent
      link="Wheel_RR" />
    <child
      link="Roller_RR_6" />
    <axis
      xyz="0 0 -1" />
  </joint>
  <link
    name="Roller_RR_7">
    <inertial>
      <origin
        xyz="1.18025478279549E-10 1.32408584097021E-10 1.20856666063762E-08"
        rpy="0 0 0" />
      <mass
        value="0.0352584429300108" />
      <inertia
        ixx="1.04260769877755E-05"
        ixy="-6.49989260921309E-18"
        ixz="-3.19602978087345E-11"
        iyy="1.0426076987761E-05"
        iyz="-6.12441084700149E-12"
        izz="3.24617145902205E-06" />
    </inertial>
    <visual>
      <origin
        xyz="0 0 0"
        rpy="0 0 0" />
      <geometry>
        <mesh
          filename="package://Mobile_Base_Holder_1/meshes/Roller_RR_7.STL" />
      </geometry>
      <material
        name="">
        <color
          rgba="0.298039215686275 0.298039215686275 0.298039215686275 1" />
      </material>
    </visual>
    <collision>
      <origin
        xyz="0 0 0"
        rpy="0 0 0" />
      <geometry>
        <mesh
          filename="package://Mobile_Base_Holder_1/meshes/Roller_RR_7.STL" />
      </geometry>
    </collision>
  </link>
  <joint
    name="J_Roller_RR_7"
    type="continuous">
    <origin
      xyz="0 0.0494999999999669 0"
      rpy="0 -0.78539816339762 0" />
    <parent
      link="Wheel_RR" />
    <child
      link="Roller_RR_7" />
    <axis
      xyz="0 0 -1" />
  </joint>
  <link
    name="Roller_RR_8">
    <inertial>
      <origin
        xyz="-1.74573559219571E-08 -8.01624572277504E-10 9.90356089913824E-08"
        rpy="0 0 0" />
      <mass
        value="0.035258442930011" />
      <inertia
        ixx="1.04260721421412E-05"
        ixy="-2.24826665582047E-14"
        ixz="5.61434170959108E-12"
        iyy="1.04260724436141E-05"
        iyz="-3.20575856409404E-11"
        izz="3.24617176333256E-06" />
    </inertial>
    <visual>
      <origin
        xyz="0 0 0"
        rpy="0 0 0" />
      <geometry>
        <mesh
          filename="package://Mobile_Base_Holder_1/meshes/Roller_RR_8.STL" />
      </geometry>
      <material
        name="">
        <color
          rgba="0.298039215686275 0.298039215686275 0.298039215686275 1" />
      </material>
    </visual>
    <collision>
      <origin
        xyz="0 0 0"
        rpy="0 0 0" />
      <geometry>
        <mesh
          filename="package://Mobile_Base_Holder_1/meshes/Roller_RR_8.STL" />
      </geometry>
    </collision>
  </link>
  <joint
    name="J_Roller_RR_8"
    type="continuous">
    <origin
      xyz="0.0350017856687396 0.0350017856687503 0"
      rpy="0 -0.785398163397566 -0.785398163397389" />
    <parent
      link="Wheel_RR" />
    <child
      link="Roller_RR_8" />
    <axis
      xyz="0 0 -1" />
  </joint>
  <link
    name="Pin_Head_F">
    <inertial>
      <origin
        xyz="5.79715675463888E-09 -3.31749339110843E-09 -0.0053966909824284"
        rpy="0 0 0" />
      <mass
        value="0.402815862801581" />
      <inertia
        ixx="0.000833196466867663"
        ixy="-1.99021997970921E-08"
        ixz="-1.89086541626032E-10"
        iyy="0.000833099897197821"
        iyz="1.01041014589601E-10"
        izz="3.49180806072697E-05" />
    </inertial>
    <visual>
      <origin
        xyz="0 0 0"
        rpy="0 0 0" />
      <geometry>
        <mesh
          filename="package://Mobile_Base_Holder_1/meshes/Pin_Head_F.STL" />
      </geometry>
      <material
        name="">
        <color
          rgba="0.898039215686275 0.917647058823529 0.929411764705882 1" />
      </material>
    </visual>
    <collision>
      <origin
        xyz="0 0 0"
        rpy="0 0 0" />
      <geometry>
        <mesh
          filename="package://Mobile_Base_Holder_1/meshes/Pin_Head_F.STL" />
      </geometry>
    </collision>
  </link>
  <joint
    name="J_Pin_Head_F"
    type="prismatic">
    <origin
      xyz="-0.1012 0.125 0.06"
      rpy="-1.5708 0 1.5708" />
    <parent
      link="Mobile_Base" />
    <child
      link="Pin_Head_F" />
    <axis
      xyz="0 0 1" />
    <limit
      lower="0"
      upper="0.2"
      effort="0"
      velocity="0" />
  </joint>
  <link
    name="Pin_Head_R">
    <inertial>
      <origin
        xyz="-6.17058776297696E-09 2.55668453075231E-09 -0.00539669098242834"
        rpy="0 0 0" />
      <mass
        value="0.402815862801581" />
      <inertia
        ixx="0.000833199918234933"
        ixy="-7.13359815521494E-09"
        ixz="2.00359336359181E-10"
        iyy="0.000833096445830546"
        iyz="-7.62833085185167E-11"
        izz="3.49180806072696E-05" />
    </inertial>
    <visual>
      <origin
        xyz="0 0 0"
        rpy="0 0 0" />
      <geometry>
        <mesh
          filename="package://Mobile_Base_Holder_1/meshes/Pin_Head_R.STL" />
      </geometry>
      <material
        name="">
        <color
          rgba="0.898039215686275 0.917647058823529 0.929411764705882 1" />
      </material>
    </visual>
    <collision>
      <origin
        xyz="0 0 0"
        rpy="0 0 0" />
      <geometry>
        <mesh
          filename="package://Mobile_Base_Holder_1/meshes/Pin_Head_R.STL" />
      </geometry>
    </collision>
  </link>
  <joint
    name="J_Pin_Head_R"
    type="prismatic">
    <origin
      xyz="0.10612 -0.125 0.06"
      rpy="-1.5708 0 -1.5708" />
    <parent
      link="Mobile_Base" />
    <child
      link="Pin_Head_R" />
    <axis
      xyz="0 0 1" />
    <limit
      lower="0"
      upper="0.2"
      effort="0"
      velocity="0" />
  </joint>
</robot>
